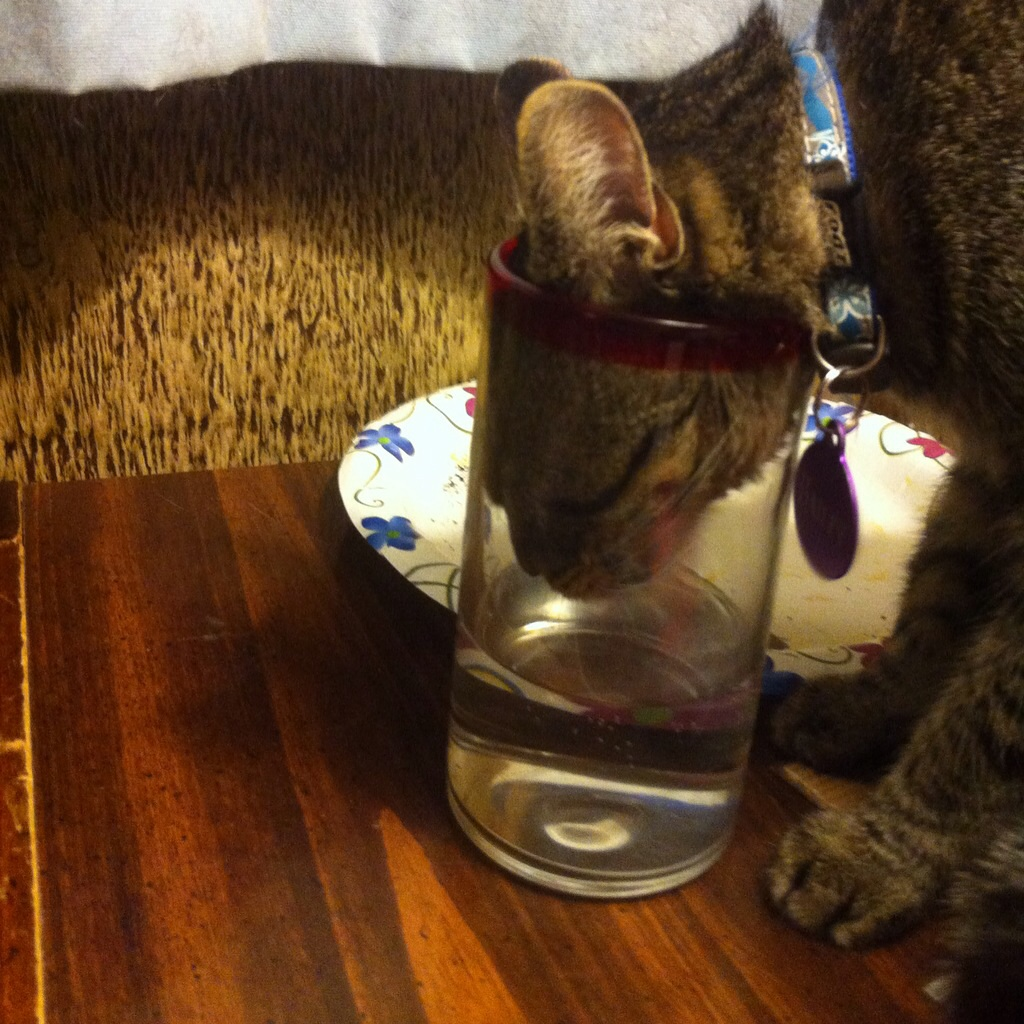glass of water: (440, 264, 757, 884)
